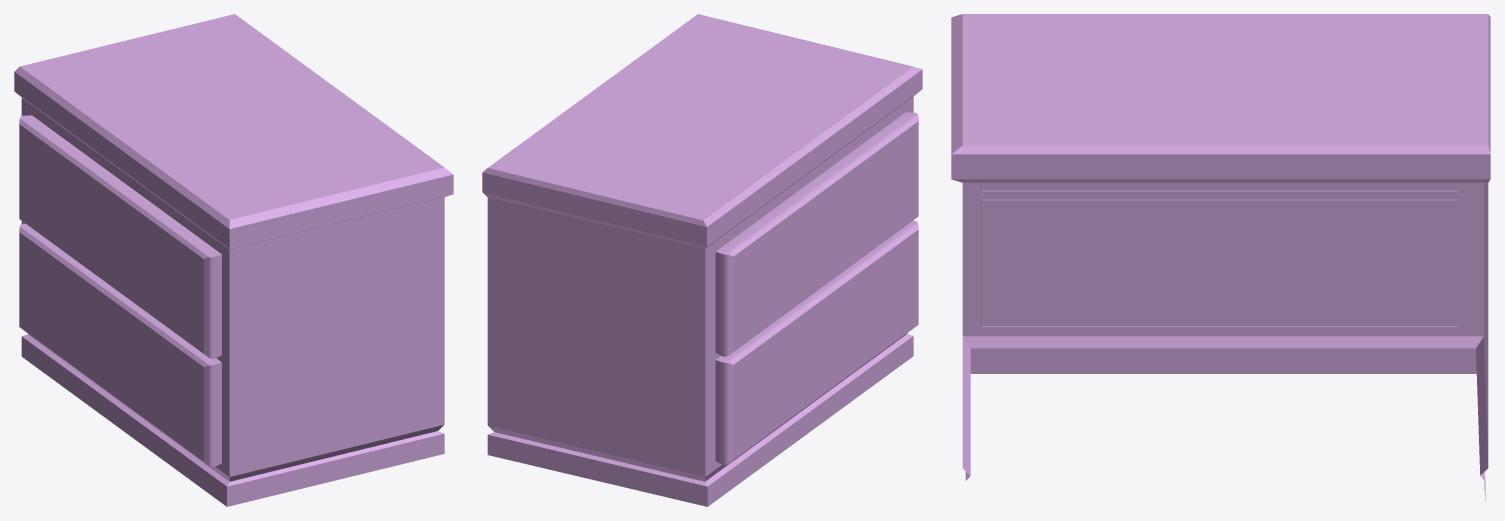
File: Friday_Kitchen_Drawer.fbx
The picture shows the model from 3 angles, left to right: view 1: azimuth 30°, elevation 25°; view 2: azimuth 150°, elevation 25°; view 3: azimuth 270°, elevation 25°; orthographic projection. The views are drawn at different scales.
Visible parts, largest first — view 1: Kitchen_Drawer; view 2: Kitchen_Drawer; view 3: Kitchen_Drawer.
Boxes of the visible parts, bbox=[...] form: Kitchen_Drawer: bbox=[14, 14, 453, 506]; Kitchen_Drawer: bbox=[482, 14, 922, 506]; Kitchen_Drawer: bbox=[951, 14, 1490, 500].
Bounding box in the file's own units: 168 × 197 × 267.
